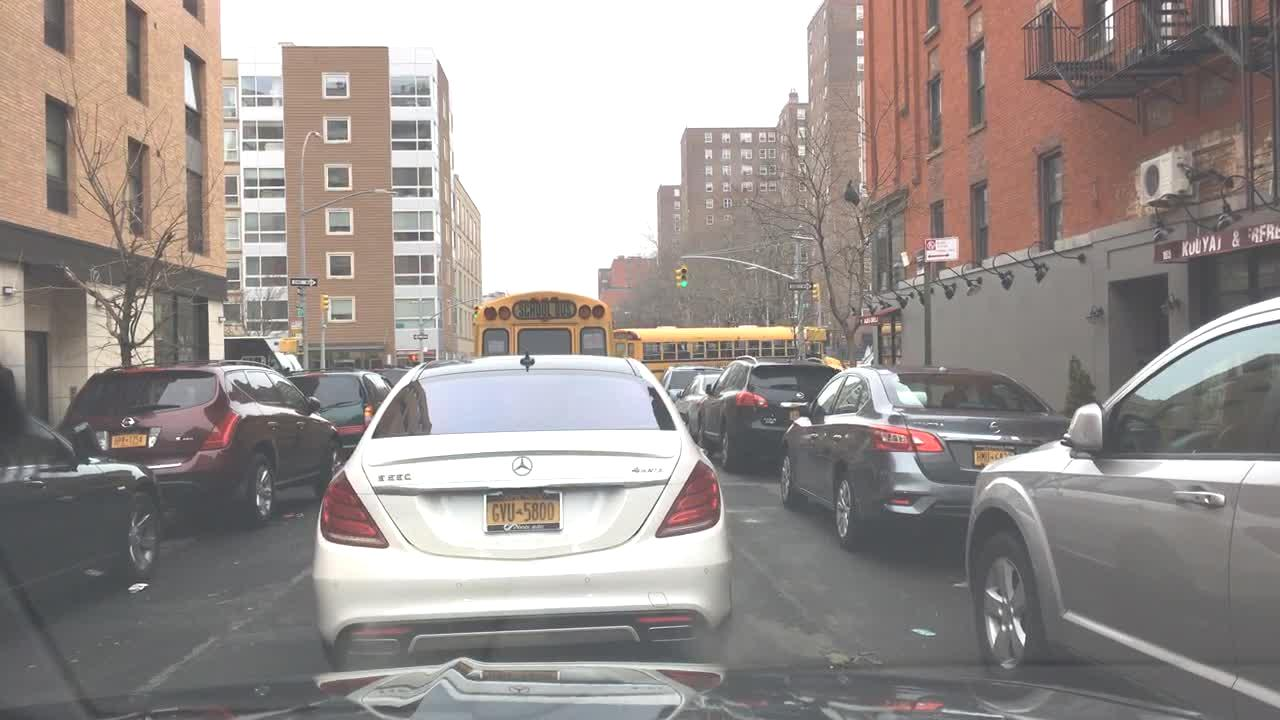Mercedes: (501, 440, 542, 483)
Nissan: (119, 414, 136, 433)
